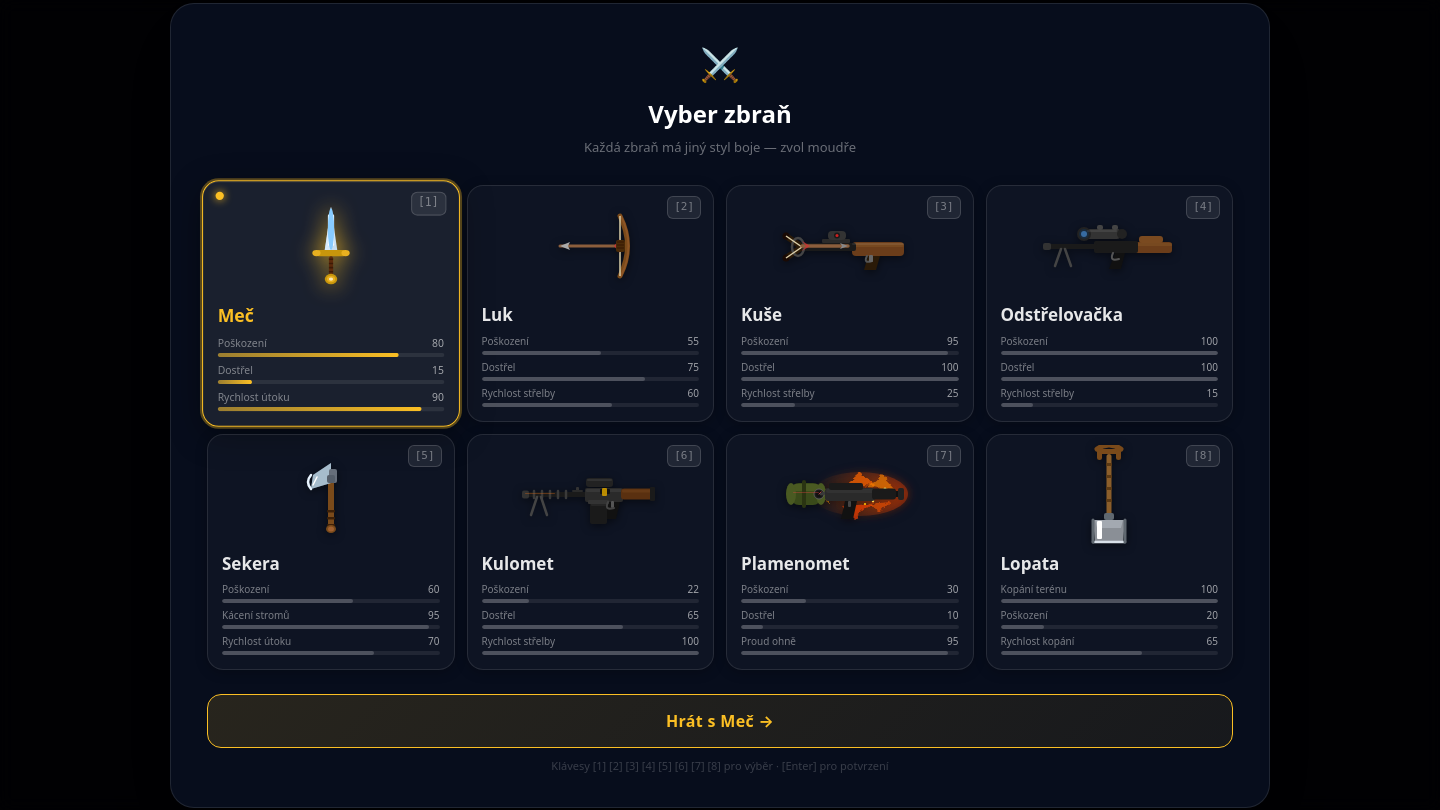
Scenario: WeaponSelect component › clicking bow weapon card selects it
What coordinates should you click on to do the following:
click the button with test id "weapon-card-bow"
I would click on:
 (590, 303)
Its box is 466,185 -> 714,422.
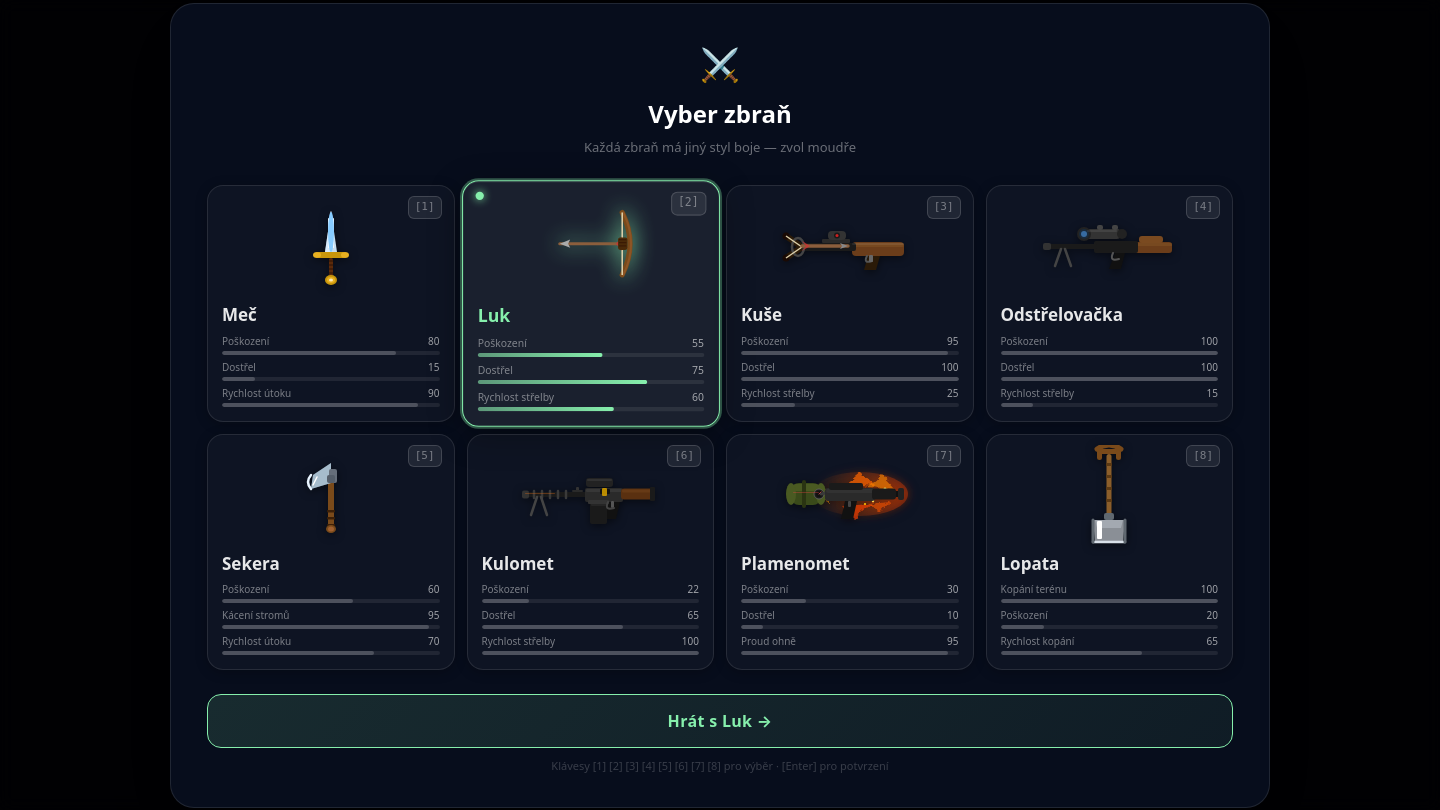
Expected: the button with test id "weapon-confirm-btn" shows "Luk", 207,694 -> 1233,748
